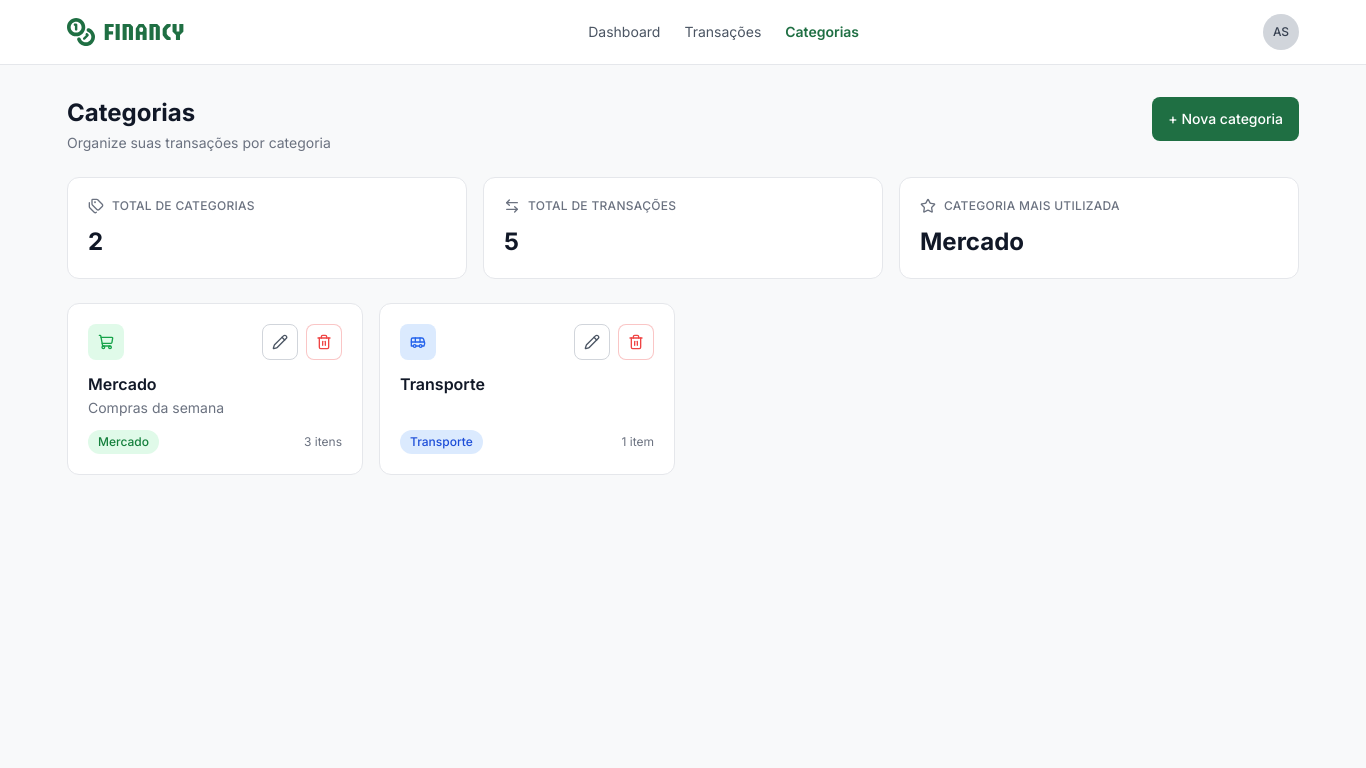
CategoriesPage › reopens the create dialog empty after a create, not prefilled from the last one
The width and height of the screenshot is (1366, 768).
Expected: the element "Mercado" is shown, [67, 303, 363, 475]
Click the button "+ Nova categoria" at (1226, 119), box [1152, 97, 1299, 141]
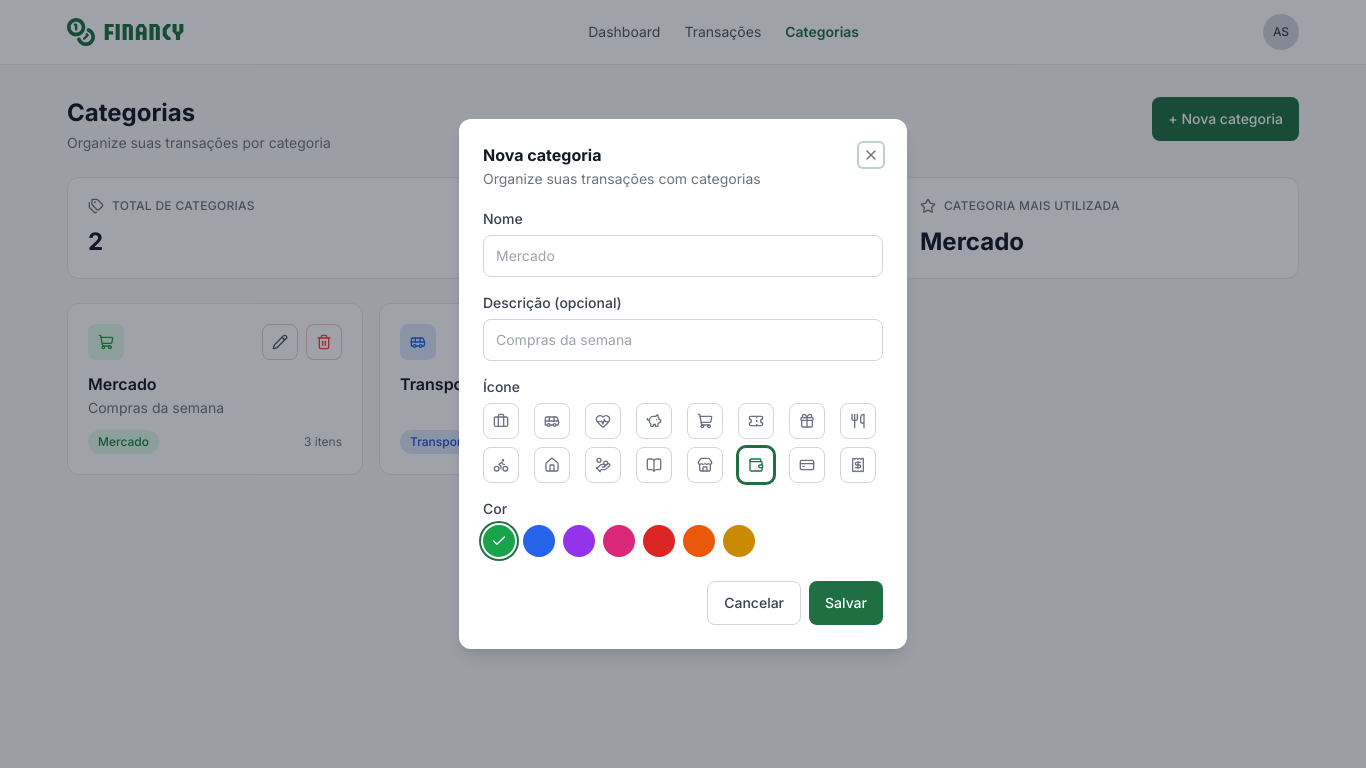
Type "Lazer" into the field labelled "Nome" at (683, 256), box [483, 235, 883, 277]
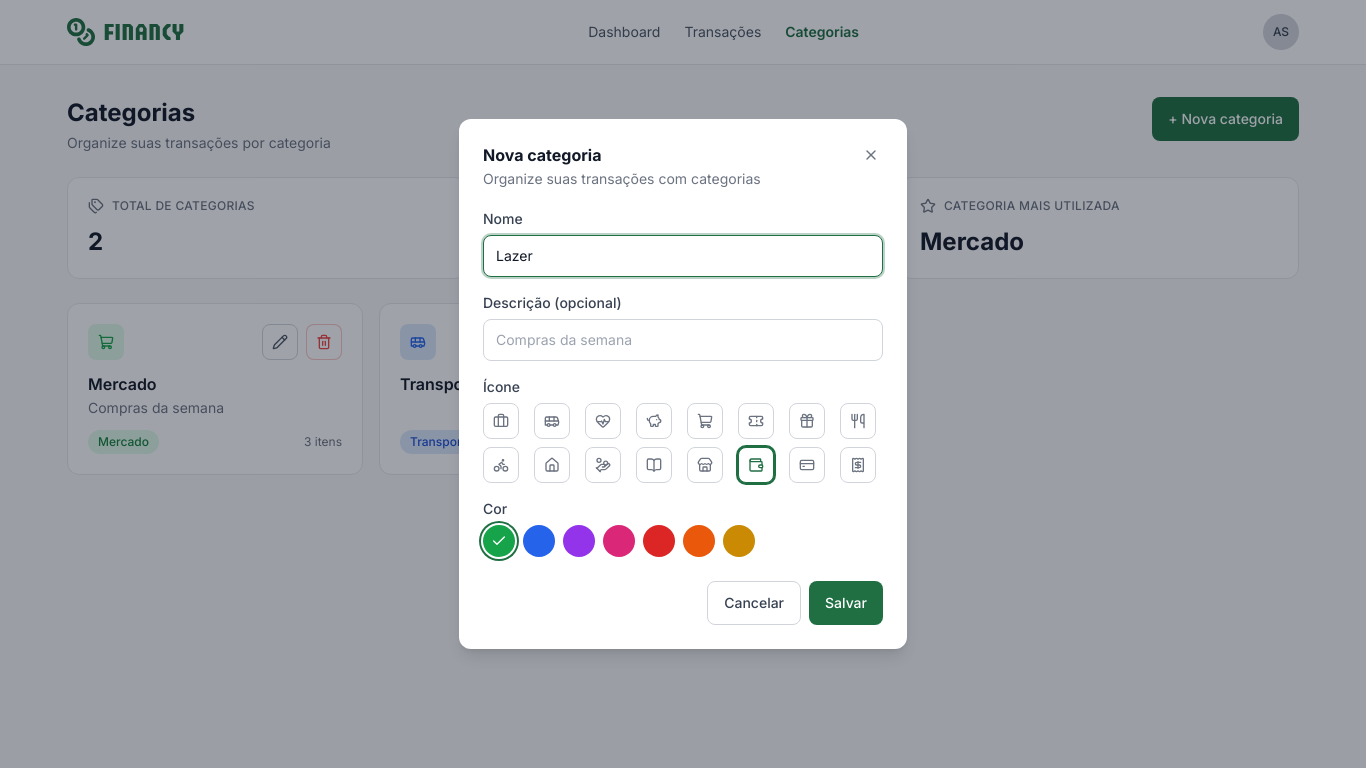
Click the radio button named "Ingresso" at (756, 421), box [738, 403, 774, 439]
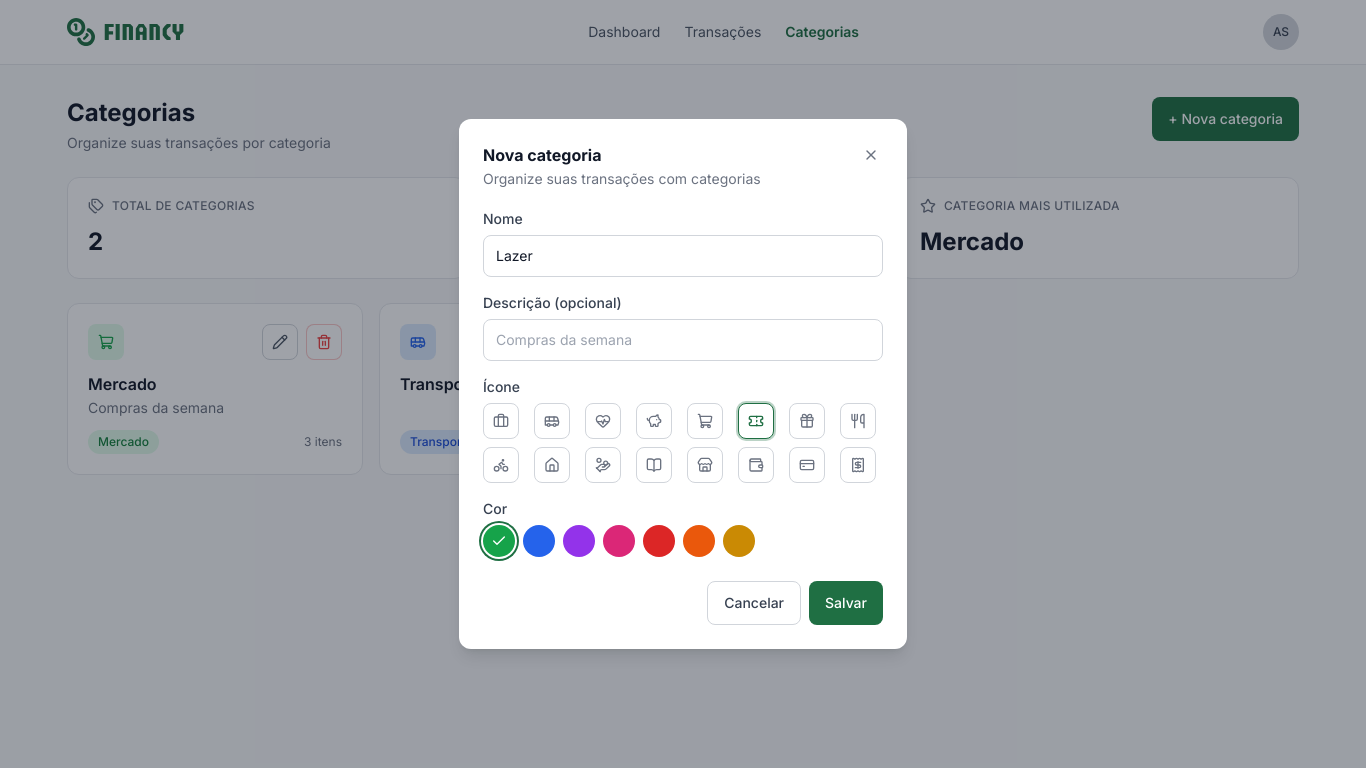
Click the button "Salvar" at (846, 603), box [809, 581, 883, 625]
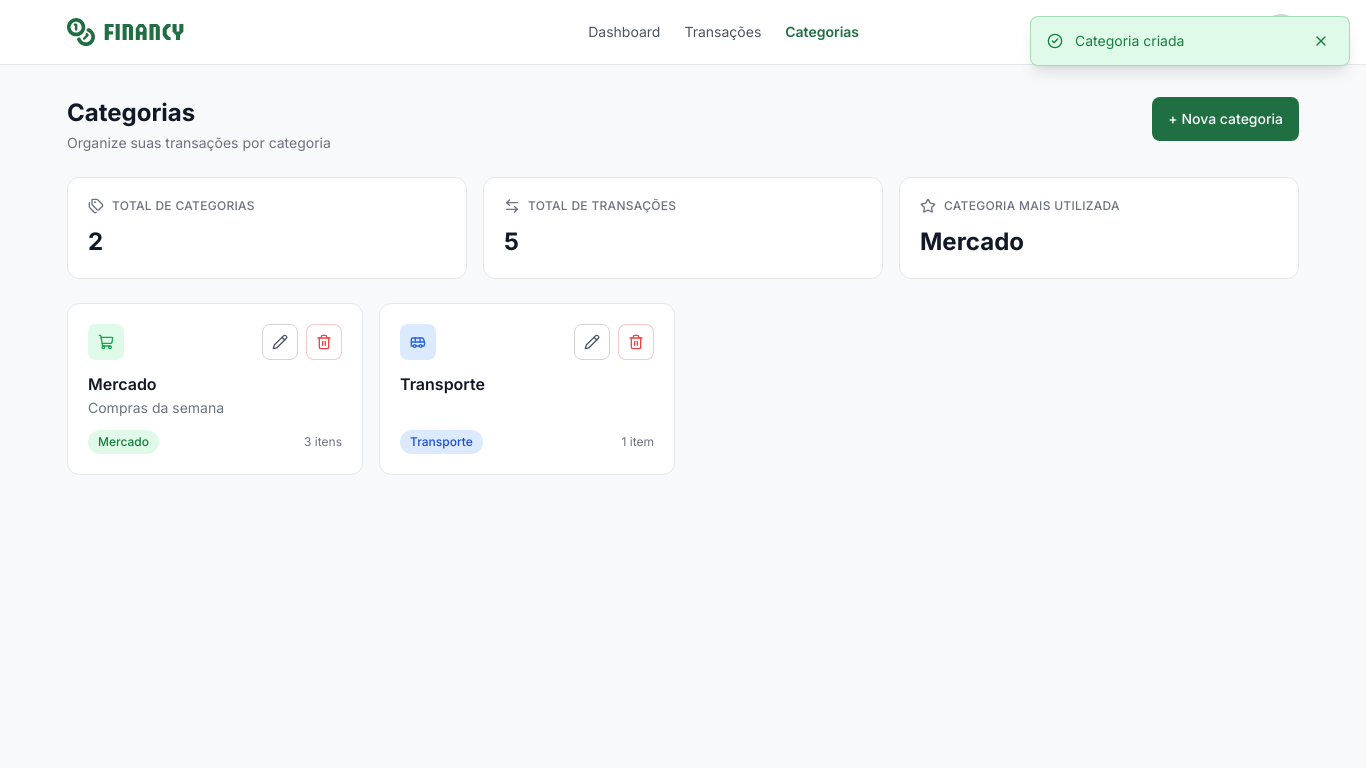
Click the button "+ Nova categoria" at (1226, 119), box [1152, 97, 1299, 141]
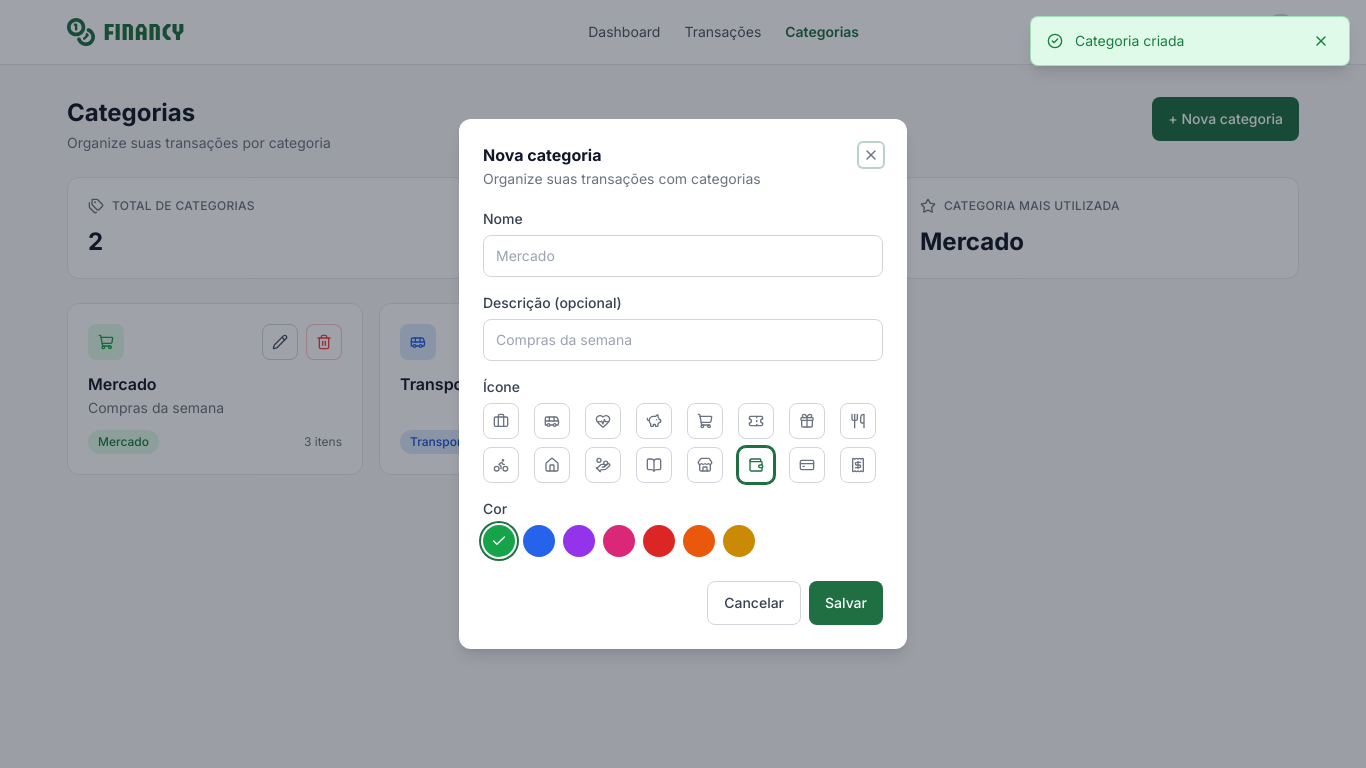
Now the field labelled "Nome" is empty, box [483, 235, 883, 277]
Now the radio button named "Carteira" is checked, box [738, 447, 774, 483]
Now the radio button named "Verde" is checked, box [483, 525, 515, 557]
